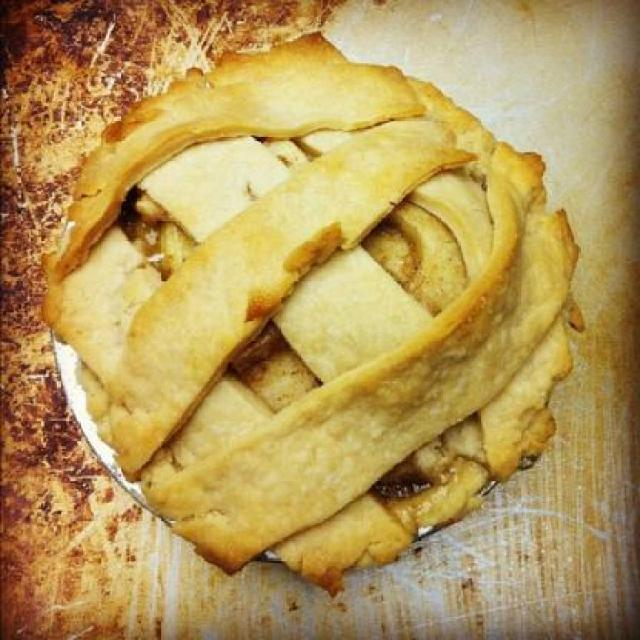Apple: (64, 51, 562, 554)
